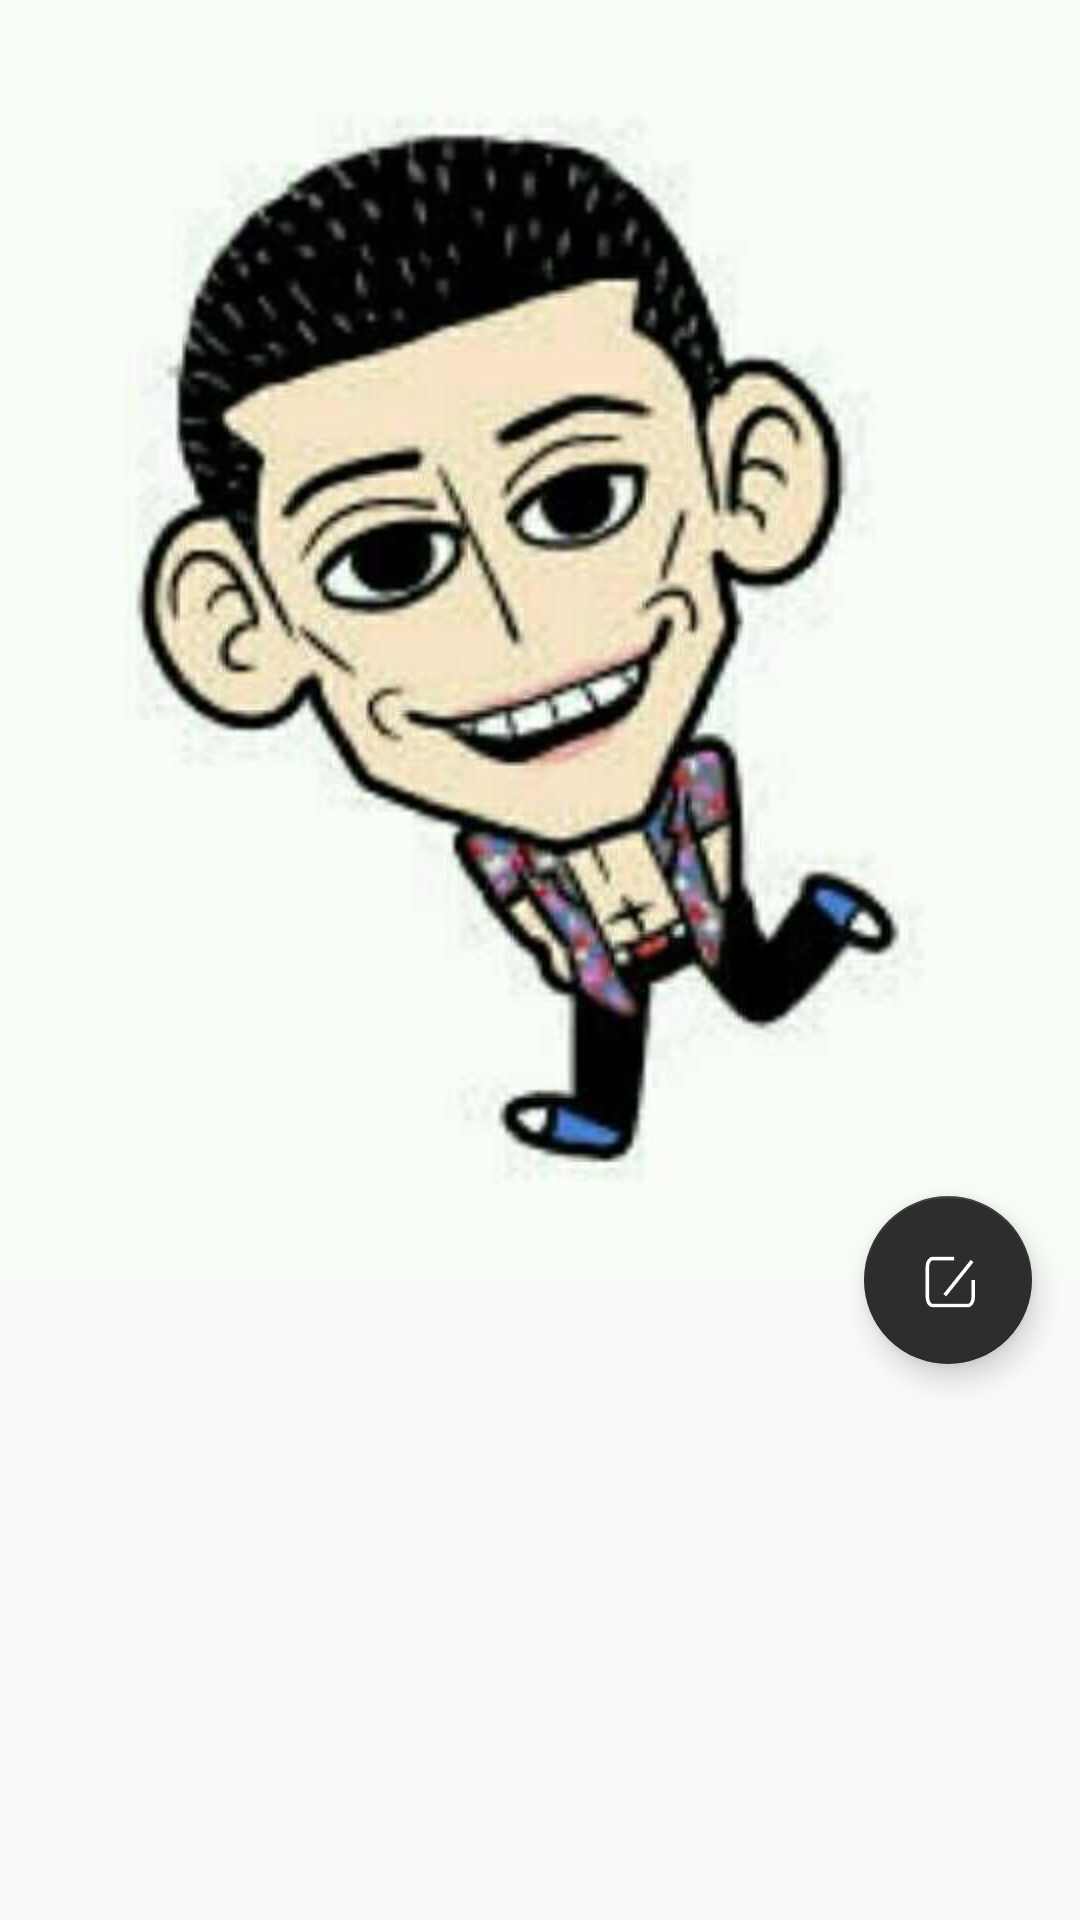

Icon bounding boxes for this 1080px x 1920px phone screenshot, format (x1, y1, x2, y2):
edit: (864, 1196, 1032, 1364)
